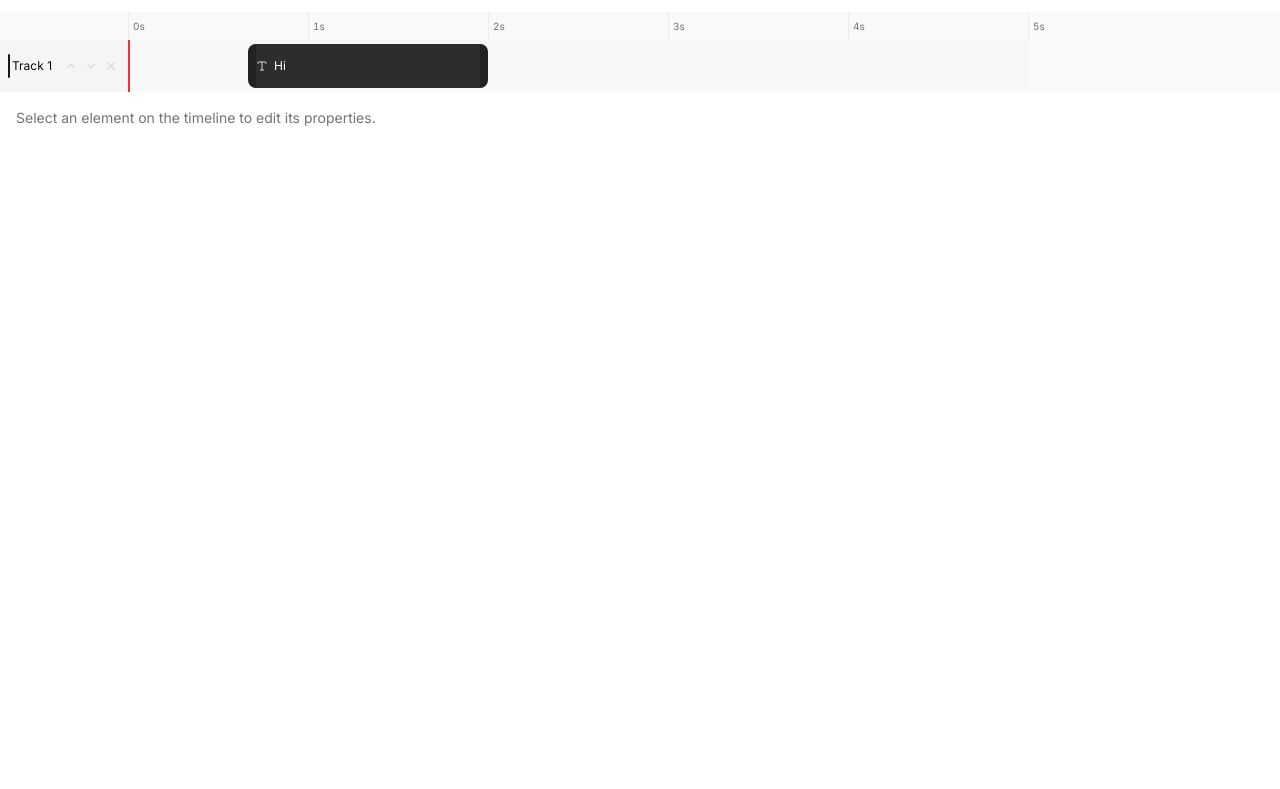
Test: timeline selection flow › shows an element property panel once it is selected
Expected: the text "Select an element on the timeline to edit its properties." is shown, top-left (16, 109), bottom-right (376, 126)
Press the mouse on the button with aria-label "Text element" at {"x": 368, "y": 66}, box top-left (248, 44), bottom-right (488, 88)
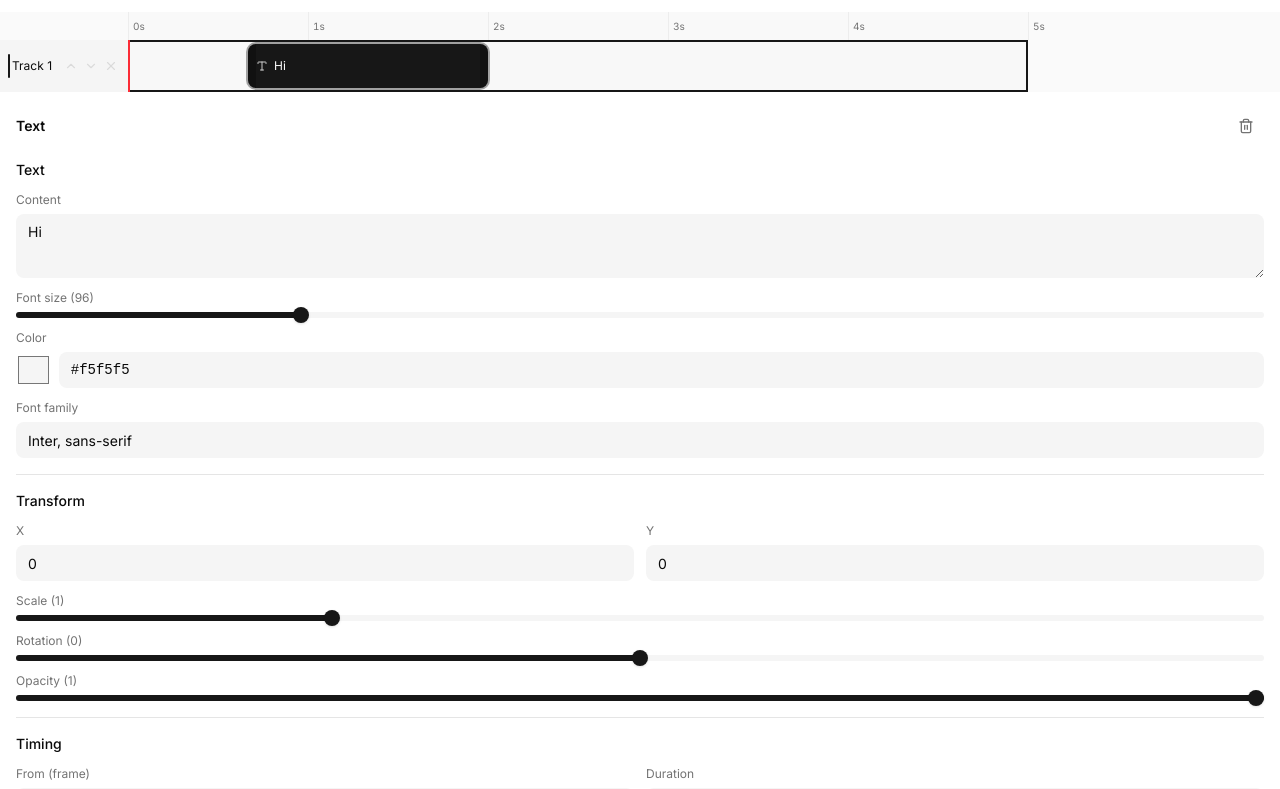
Expected: the heading "Transform" is shown, top-left (16, 492), bottom-right (85, 509)
Expected: the text box showing "Hi" is shown, top-left (16, 214), bottom-right (1264, 278)
